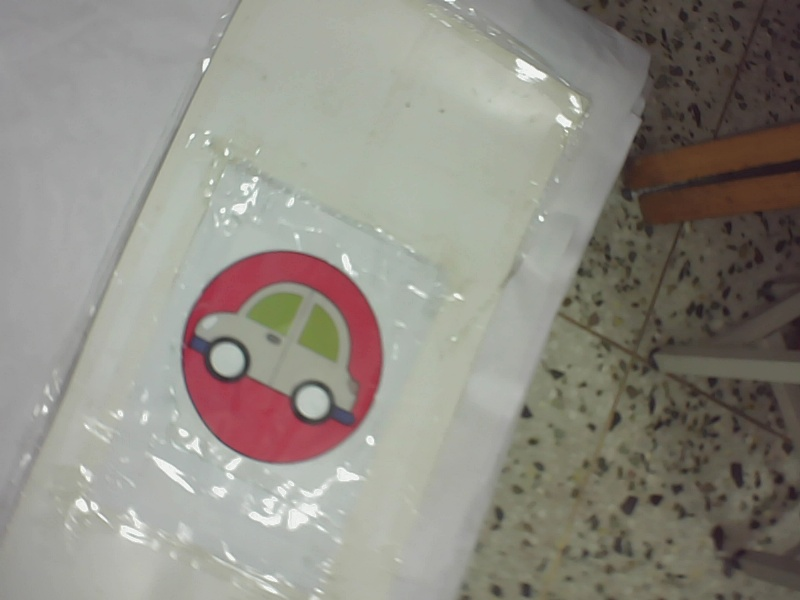areaC: (173, 247, 391, 465)
